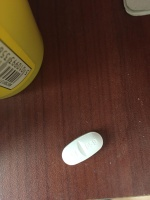Centik Buskopan: (61, 131, 104, 168)
